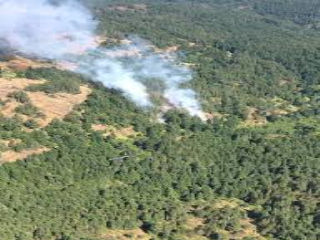smoke: (73, 29, 232, 125)
